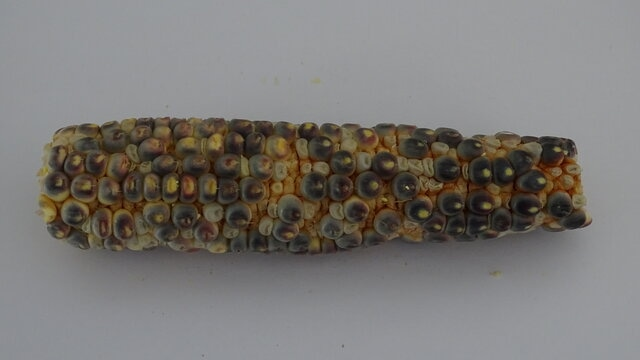ear: (36, 117, 593, 257)
